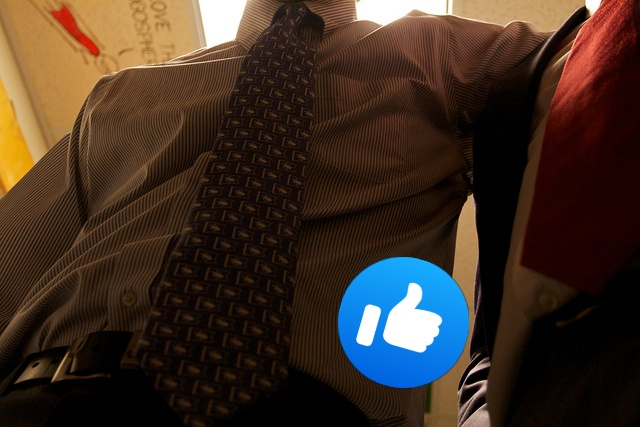like: (338, 257, 469, 388)
